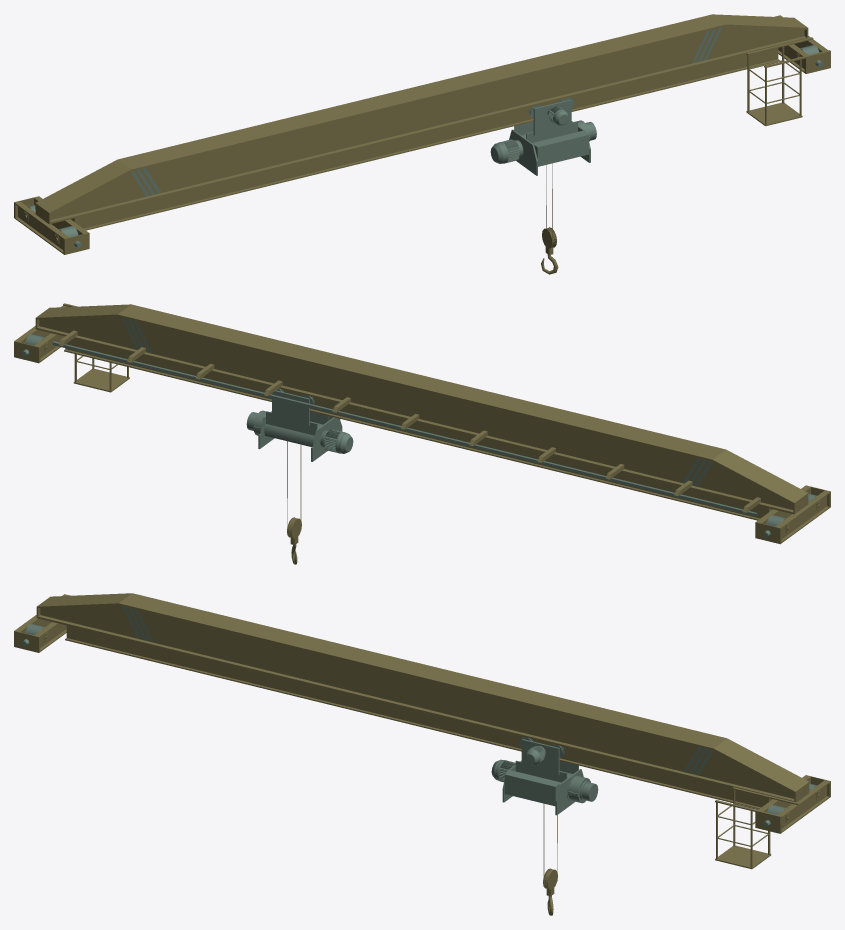
Rendered from SM05_Industrial_OverheadCrane_03.fbx.
3 renders of one model, top to bottom at view 1: azimuth 30°, elevation 25°; view 2: azimuth 150°, elevation 25°; view 3: azimuth 330°, elevation 25°, orthographic.
Visible parts, largest first — view 1: SM05_Industrial_OverheadCrane_03, SM05_Industrial_OverheadCrane_03_Hoist; view 2: SM05_Industrial_OverheadCrane_03, SM05_Industrial_OverheadCrane_03_Hoist; view 3: SM05_Industrial_OverheadCrane_03, SM05_Industrial_OverheadCrane_03_Hoist.
Boxes of the visible parts, box(x1,y1,x2,y2) form: SM05_Industrial_OverheadCrane_03: box(14, 14, 830, 254); SM05_Industrial_OverheadCrane_03_Hoist: box(490, 97, 596, 175); SM05_Industrial_OverheadCrane_03: box(14, 303, 830, 544); SM05_Industrial_OverheadCrane_03_Hoist: box(246, 388, 353, 461); SM05_Industrial_OverheadCrane_03: box(14, 593, 830, 869); SM05_Industrial_OverheadCrane_03_Hoist: box(491, 737, 598, 815).
Bounding box in the file's own units: 1294 × 345 × 161.
